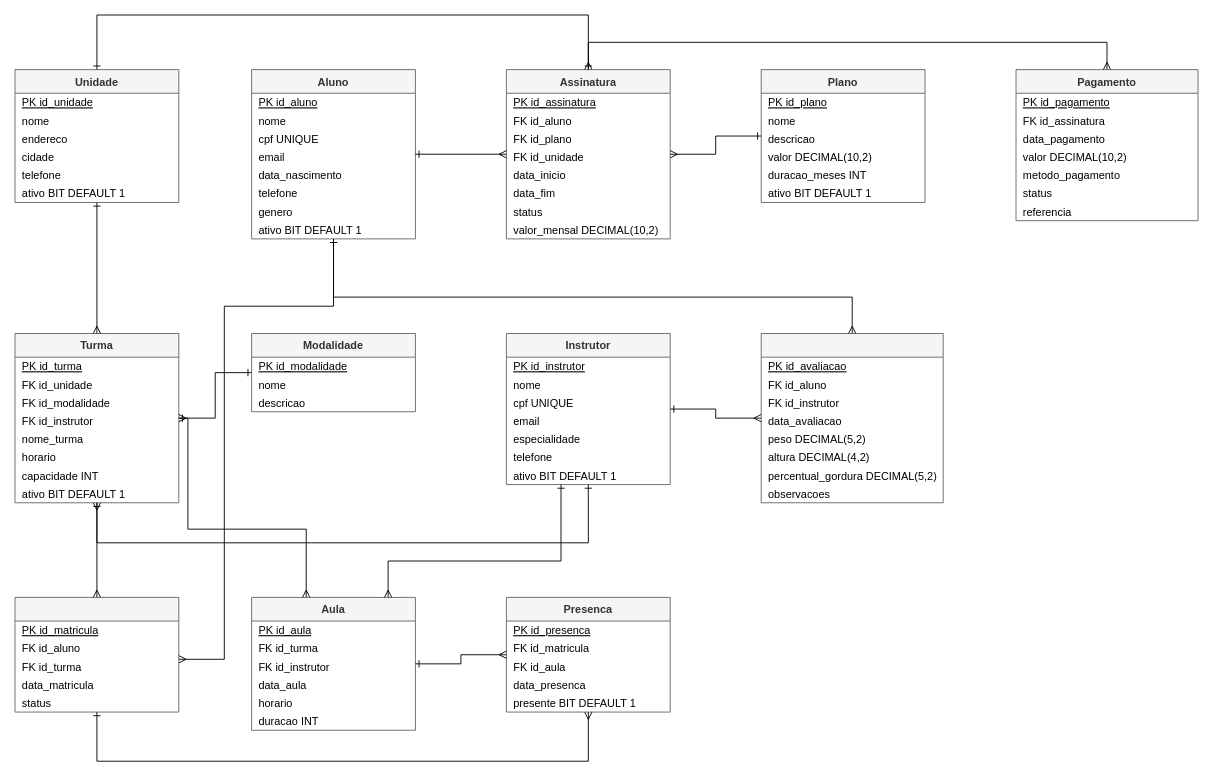
This 1213x776 diagram has some shape labels left out. The shapes that lost their labels are listed below. From the top down, each one's box as (x1, y1, x2, y2) in pixels, then its label:
(760, 333, 943, 503): Avaliacao_Fisica
(14, 597, 179, 712): Matricula_Turma
